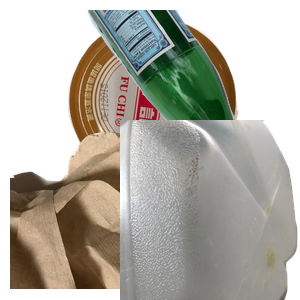glass: (75, 10, 300, 190)
metal: (66, 15, 297, 193)
plastic: (120, 120, 300, 300)
trash: (10, 120, 229, 300)
